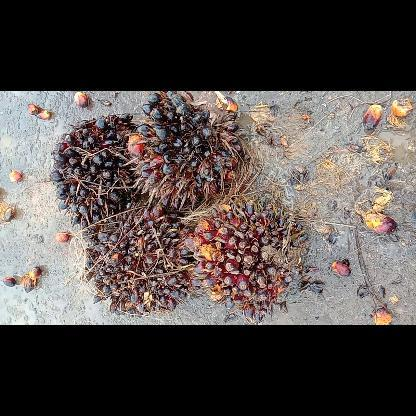TBS abnormal: (124, 91, 256, 211), (46, 110, 140, 234)
TBS masak: (182, 192, 310, 324), (80, 202, 194, 316)
